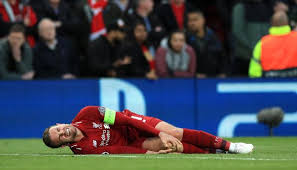10+: (1, 1, 297, 159)
down: (41, 99, 254, 158)
